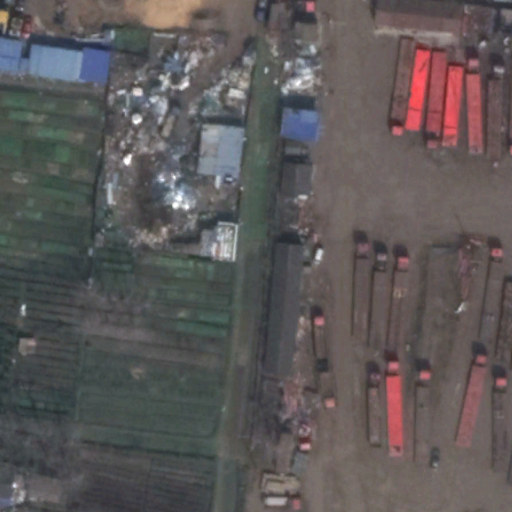msw: (92, 29, 257, 257)
